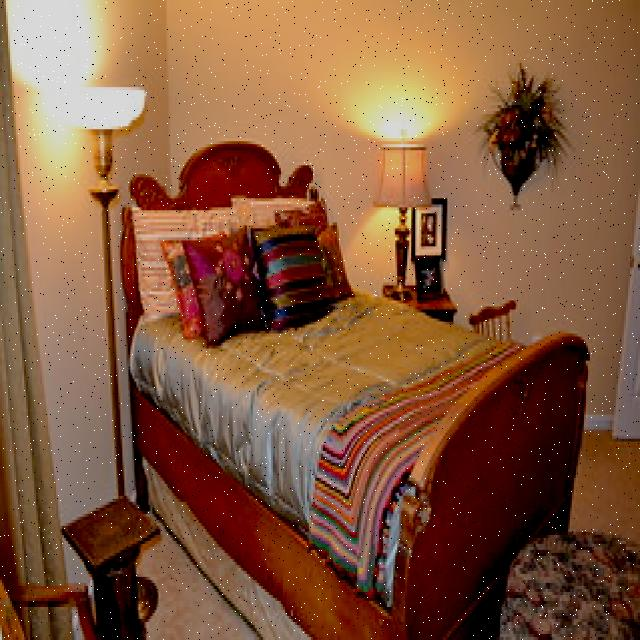bed: (128, 162, 530, 615)
